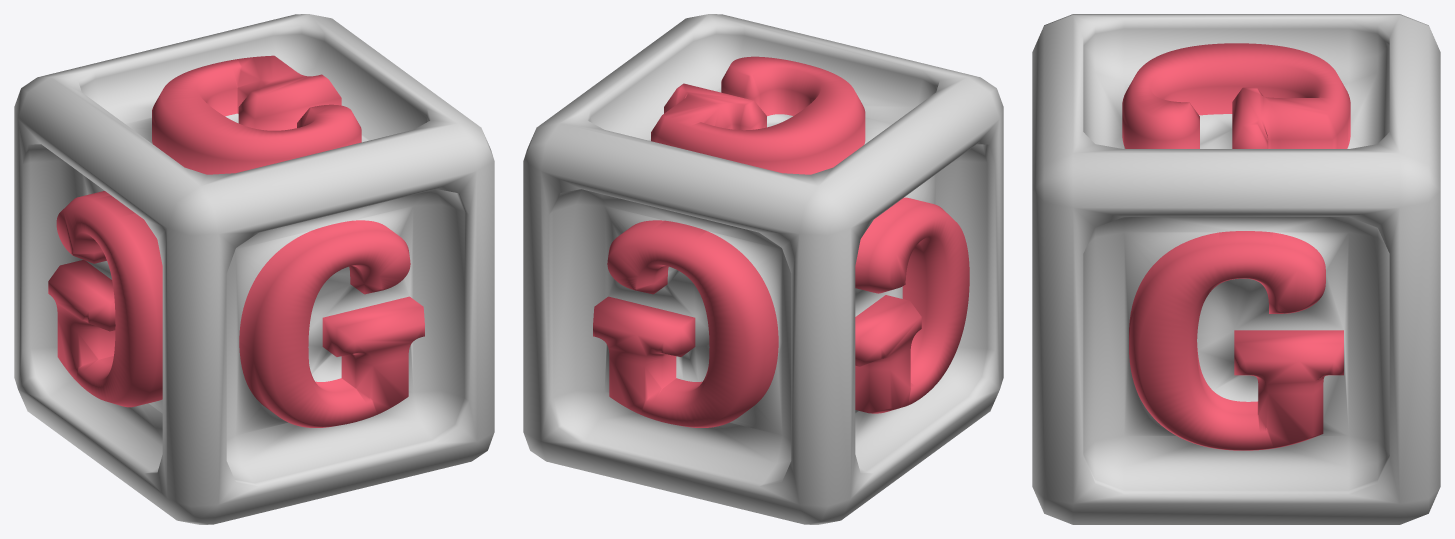
3 renders of one model, left to right at view 1: azimuth 30°, elevation 25°; view 2: azimuth 150°, elevation 25°; view 3: azimuth 270°, elevation 25°, orthographic. The views are drawn at different scales.
Parts seen in each view (by area): view 1: obj_0; view 2: obj_0; view 3: obj_0.
Boxes of the visible parts, left/top/right/bottom form: obj_0: left=14, top=14, right=494, bottom=524; obj_0: left=523, top=14, right=1003, bottom=524; obj_0: left=1032, top=14, right=1440, bottom=524.
Size of the model in its own units: 100 by 100 by 100.
